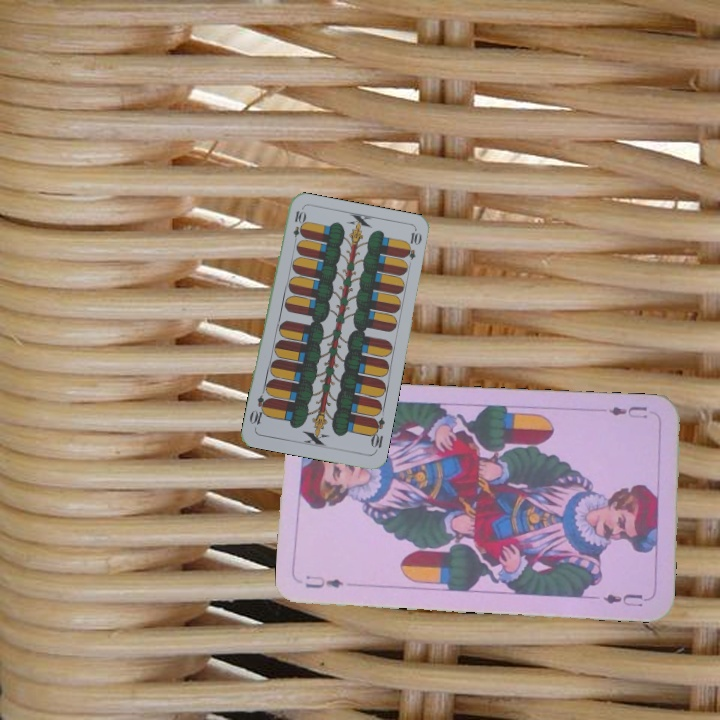E10: (366, 414, 387, 454), (289, 207, 306, 247)
EU: (604, 402, 650, 422), (301, 572, 346, 591)
